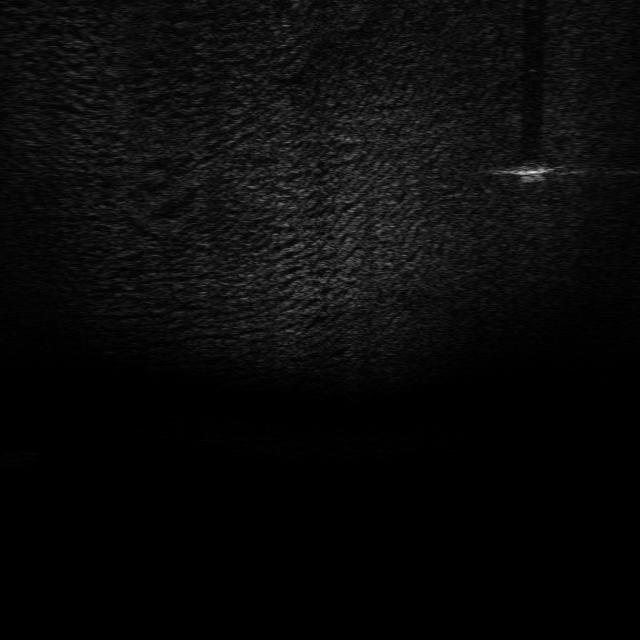cube: (514, 158, 550, 184)
